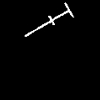double_crochet: (25, 3, 72, 36)
